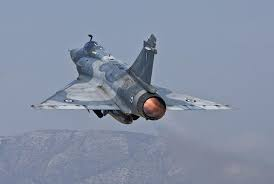fighter: (27, 30, 237, 124)
